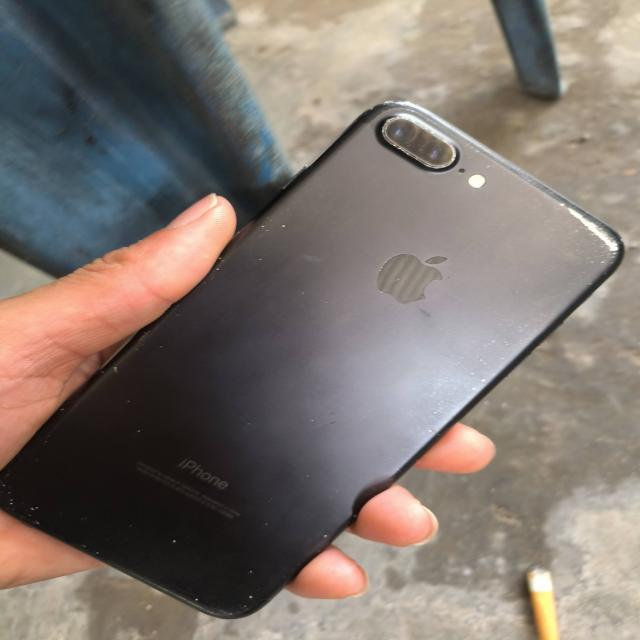scratch: (382, 115, 457, 171), (568, 208, 618, 266), (378, 98, 420, 110), (206, 605, 240, 614), (429, 400, 448, 415), (462, 142, 481, 153), (477, 354, 490, 367), (484, 338, 496, 348), (303, 414, 315, 424), (454, 355, 464, 365), (478, 374, 489, 382), (330, 486, 341, 494), (484, 162, 496, 169), (497, 322, 507, 330), (501, 339, 512, 346), (130, 427, 141, 434), (77, 540, 86, 548), (386, 256, 395, 264), (7, 498, 14, 508), (304, 470, 311, 479), (560, 198, 566, 208), (262, 522, 272, 528), (426, 426, 434, 433), (32, 518, 40, 525), (111, 365, 119, 372), (218, 255, 225, 262), (208, 273, 215, 280), (469, 368, 475, 376), (470, 385, 478, 391), (322, 530, 328, 538), (174, 312, 182, 318), (582, 282, 593, 286), (247, 593, 254, 599), (241, 604, 248, 610), (244, 420, 252, 425), (30, 505, 40, 509), (126, 397, 132, 403), (499, 354, 506, 359), (0, 482, 7, 487), (42, 438, 49, 443), (246, 568, 254, 572), (4, 470, 9, 476), (142, 331, 152, 334), (266, 216, 272, 221), (285, 208, 291, 213), (380, 264, 383, 274), (380, 290, 385, 295), (172, 539, 178, 543), (94, 551, 100, 555), (6, 490, 12, 494), (214, 267, 220, 271), (194, 597, 198, 602), (101, 370, 106, 374), (176, 303, 181, 307), (369, 107, 373, 111), (60, 407, 64, 411), (134, 348, 138, 352), (236, 231, 240, 235), (281, 225, 286, 228), (260, 225, 265, 228), (159, 344, 162, 348), (203, 281, 207, 284), (258, 257, 262, 260), (138, 338, 143, 340), (27, 514, 31, 516), (265, 230, 269, 232)
